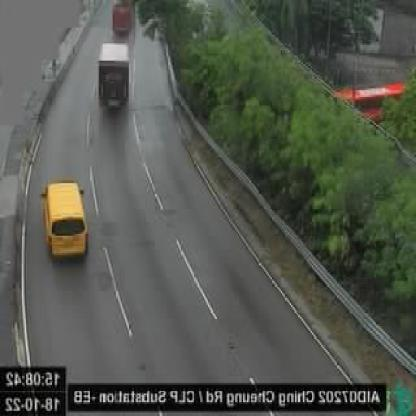Car: (40, 181, 89, 264)
Truck: (97, 44, 131, 116), (111, 2, 136, 34)
